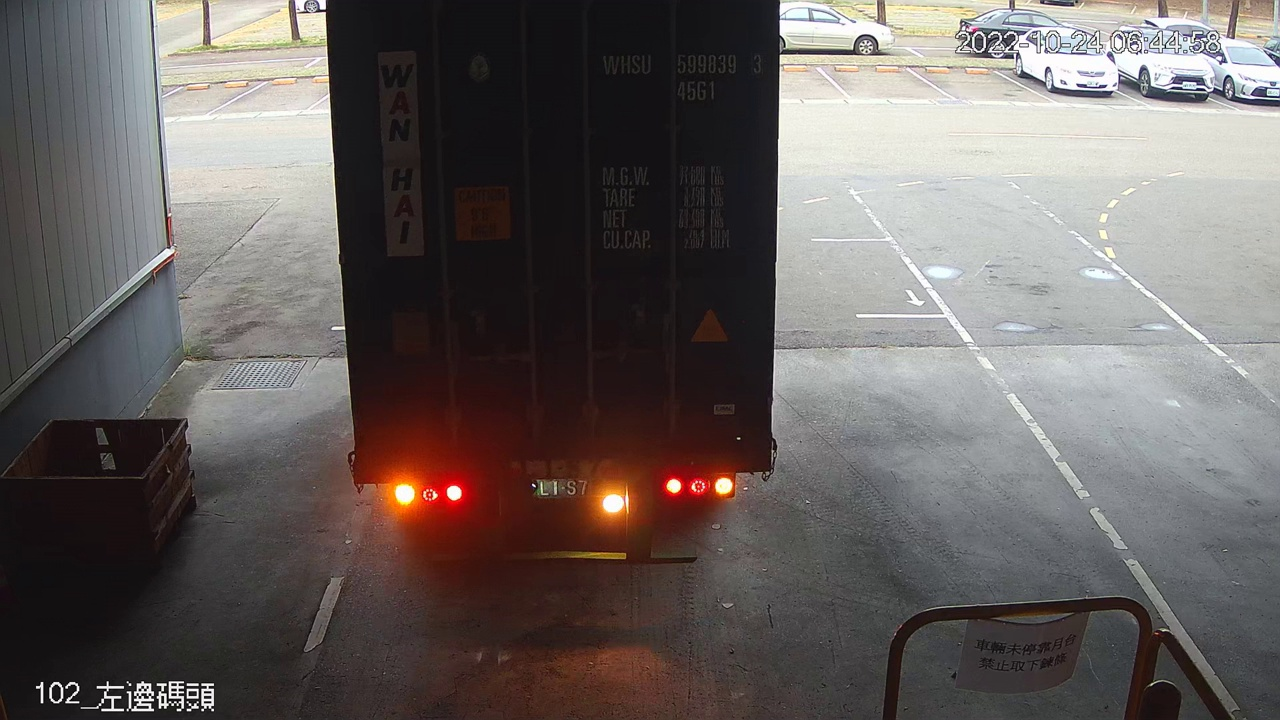container: (594, 42, 768, 107)
